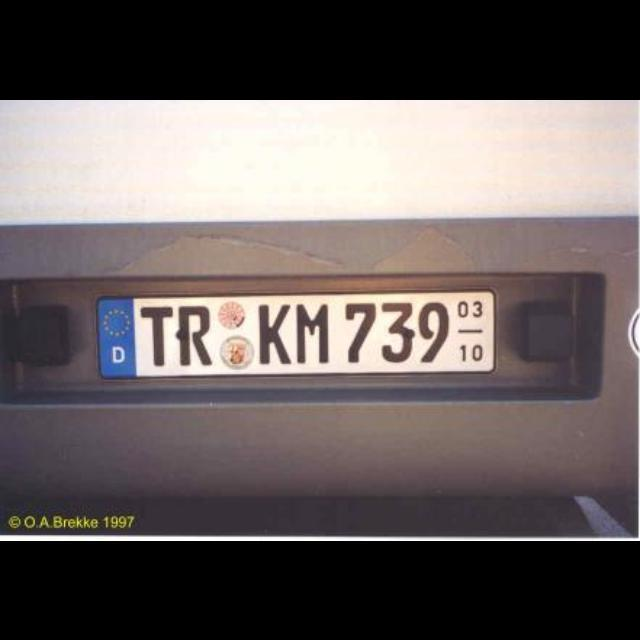license-plates: (97, 291, 496, 379)
